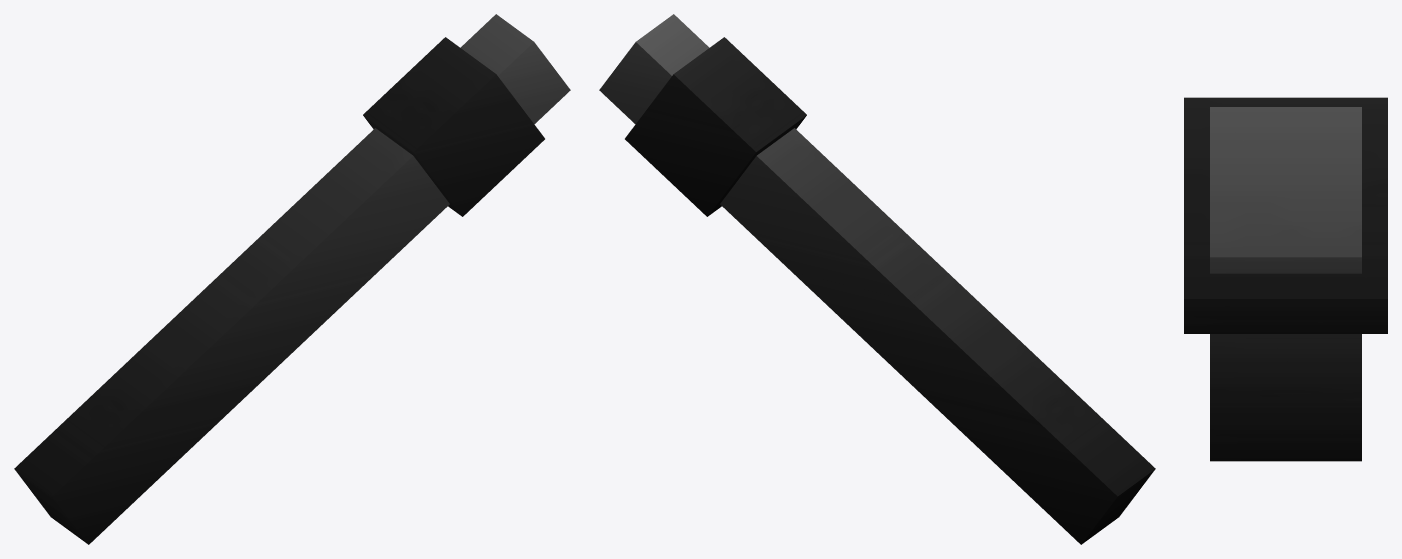
File: train_half_heavy_gun_gunthingy_placeholder_v001.fbx
The picture shows the model from 3 angles, left to right: view 1: azimuth 30°, elevation 25°; view 2: azimuth 150°, elevation 25°; view 3: azimuth 270°, elevation 25°; orthographic projection. The views are drawn at different scales.
Visible parts, largest first — view 1: heavy weapon pewpew; view 2: heavy weapon pewpew; view 3: heavy weapon pewpew.
Part boxes in pixels (<box>): heavy weapon pewpew: <box>14,14,570,544</box>; heavy weapon pewpew: <box>599,14,1155,544</box>; heavy weapon pewpew: <box>1184,97,1387,461</box>.
Bounding box in the file's own units: 61.1 × 261 × 359.
